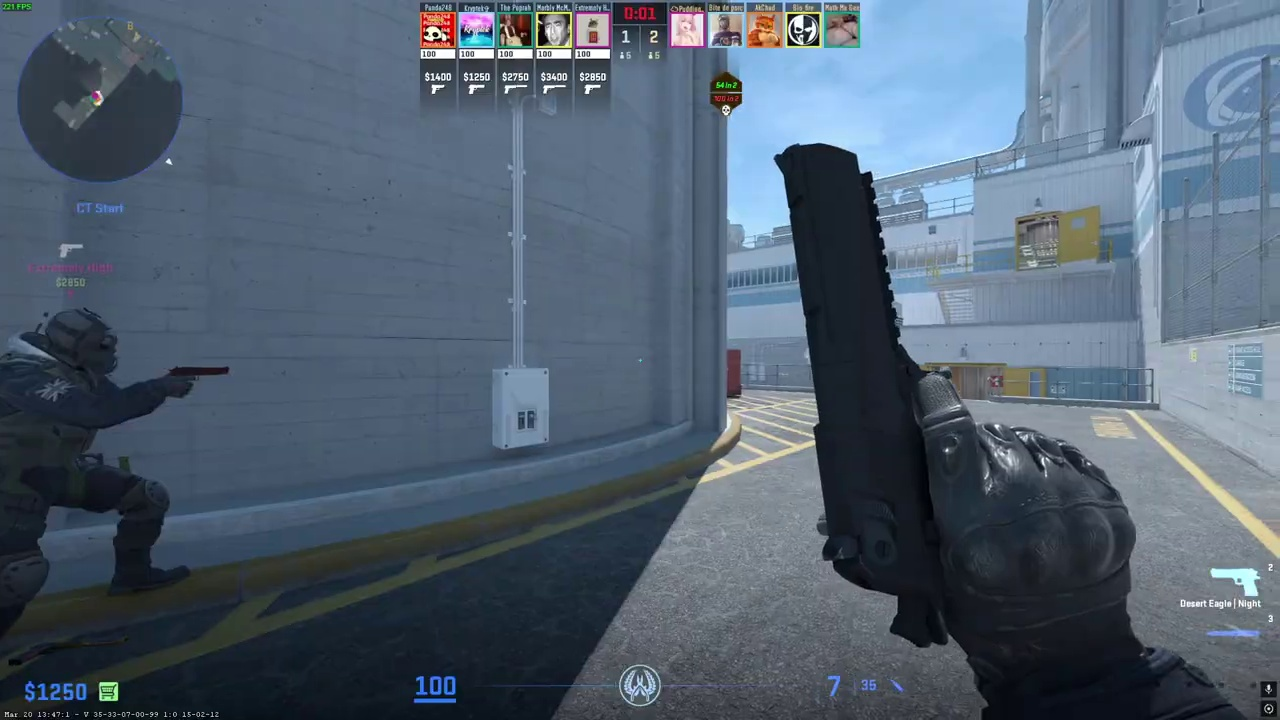CT: (0, 306, 172, 643)
